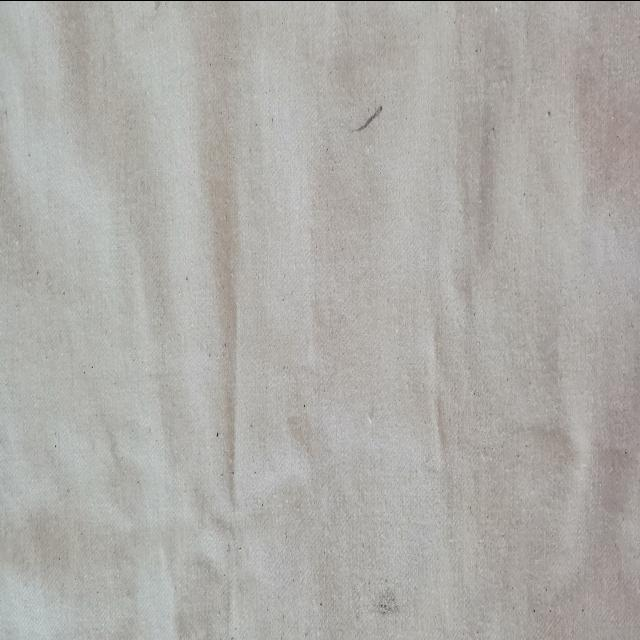taaaches: (349, 69, 404, 155), (362, 569, 410, 629)
